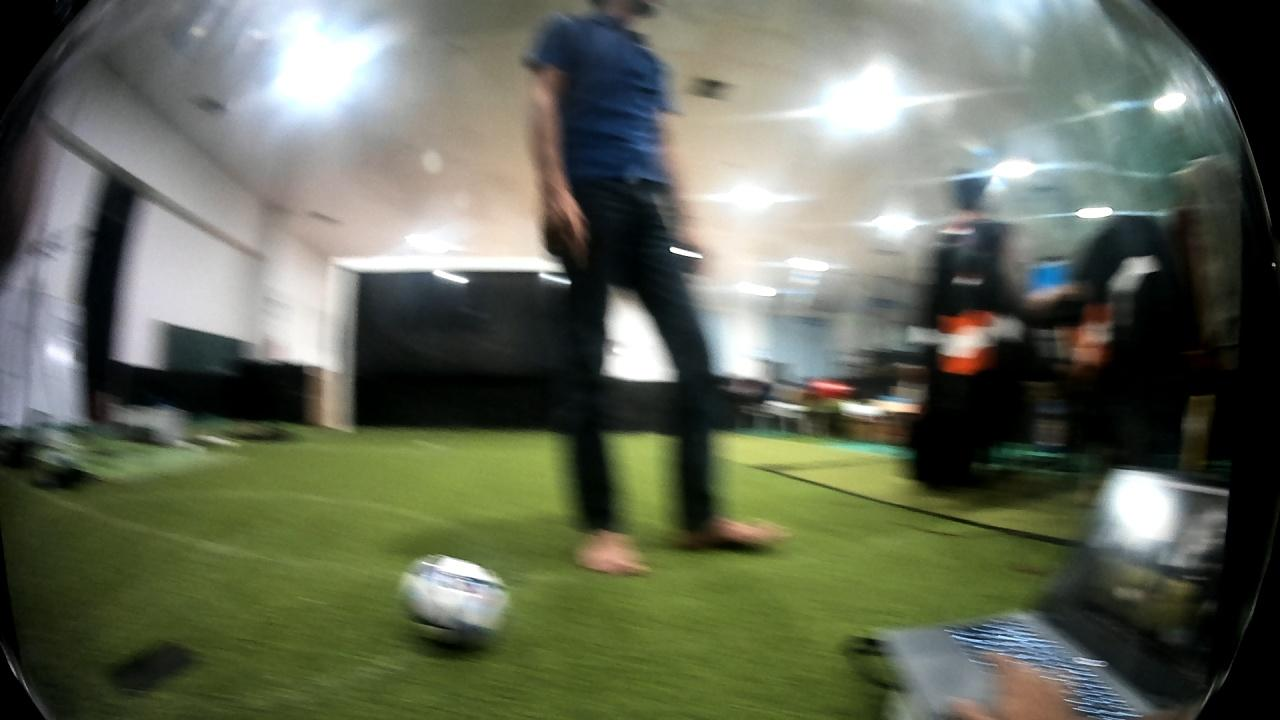ball: (394, 550, 523, 646)
